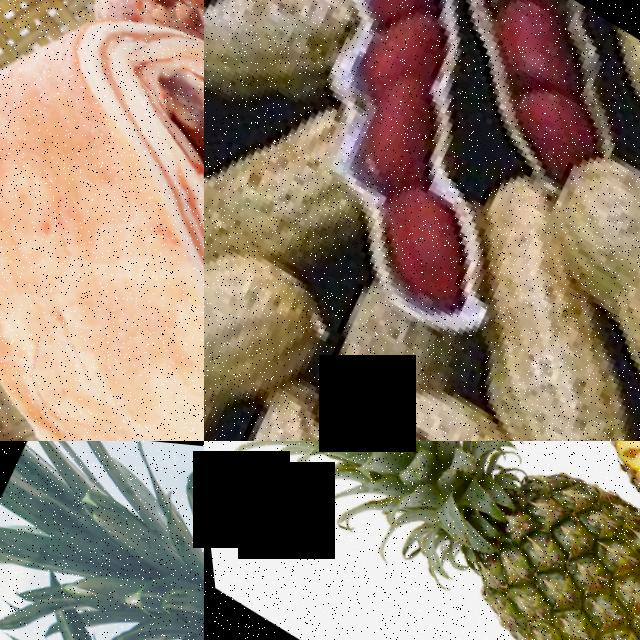peanuts: (423, 273, 640, 441), (508, 118, 640, 381), (204, 93, 371, 296), (204, 225, 337, 441), (204, 0, 363, 136)
pineapple: (330, 441, 640, 640)
pork belly: (0, 0, 204, 441), (48, 0, 204, 237)
